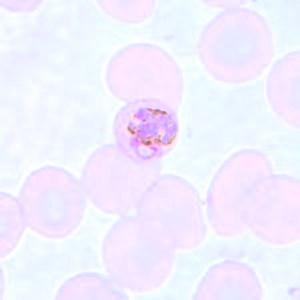Infected: (114, 96, 179, 164)
Uninfected: (205, 146, 271, 237), (200, 8, 275, 82), (104, 39, 180, 108), (84, 143, 158, 211), (102, 212, 167, 289), (140, 176, 203, 249), (18, 167, 85, 235), (238, 173, 300, 246)
